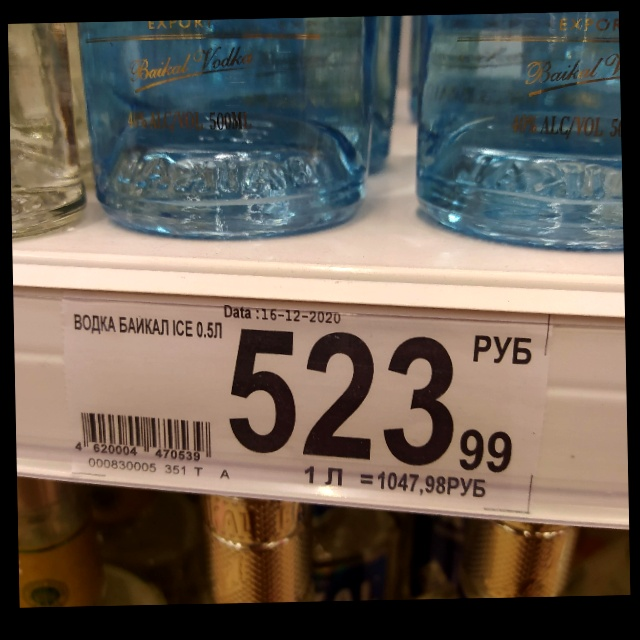barcode: (75, 408, 213, 464)
name: (70, 310, 226, 340)
price: (224, 327, 516, 474)
price_tag: (60, 293, 553, 516)
